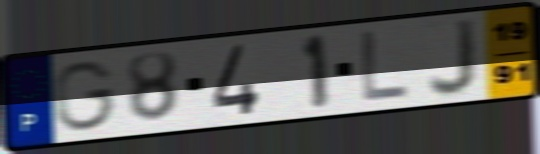1: (297, 31, 334, 114)
4: (211, 41, 262, 118)
8: (124, 50, 182, 128)
G: (51, 59, 119, 134)
J: (424, 16, 480, 100)
L: (359, 28, 411, 104)
